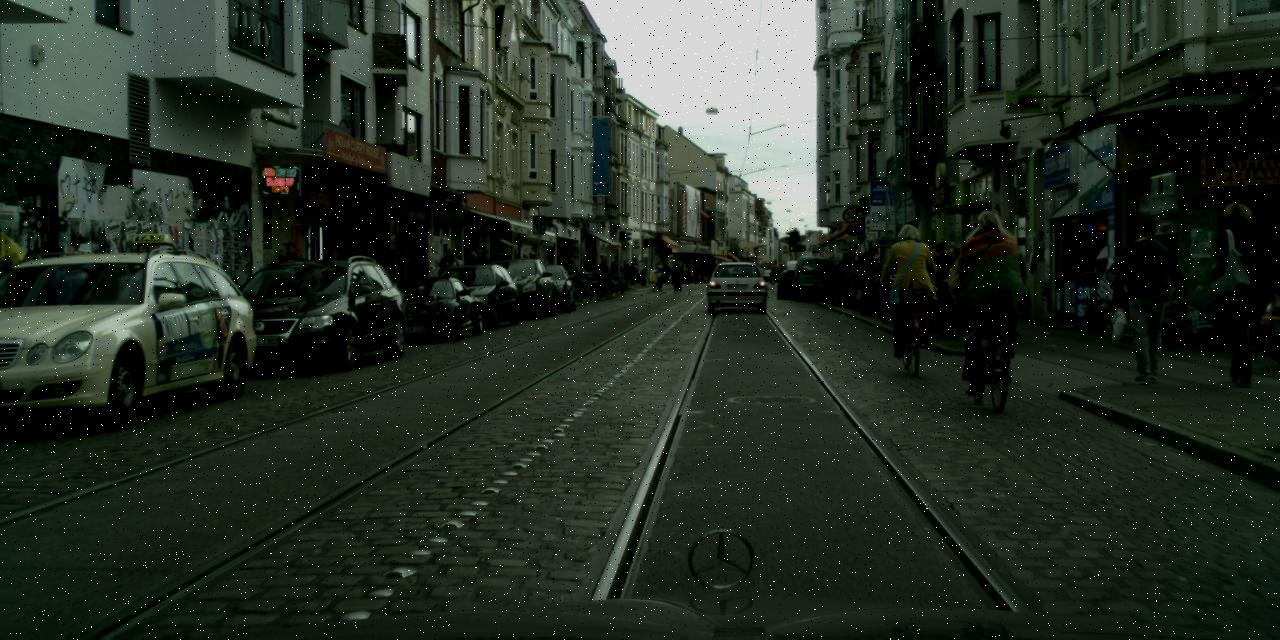ped: (1200, 201, 1276, 386), (1112, 216, 1182, 385), (957, 210, 1024, 375), (883, 223, 936, 351), (272, 242, 310, 332), (926, 242, 956, 316), (855, 246, 883, 315), (435, 248, 461, 312), (444, 251, 470, 311), (463, 250, 488, 310), (942, 248, 966, 308), (611, 257, 646, 292), (475, 249, 496, 302), (525, 251, 543, 296), (516, 253, 534, 298), (561, 256, 576, 296), (834, 257, 848, 294), (670, 260, 681, 288), (654, 264, 664, 290), (682, 264, 692, 284), (664, 264, 672, 283), (692, 264, 699, 283), (600, 260, 610, 272)
